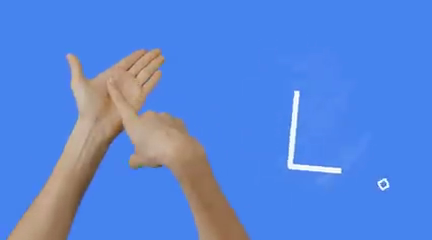L: (57, 36, 210, 175)
